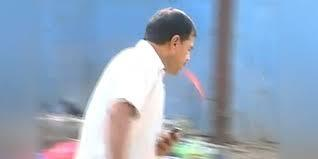spitting: (74, 1, 221, 159)
